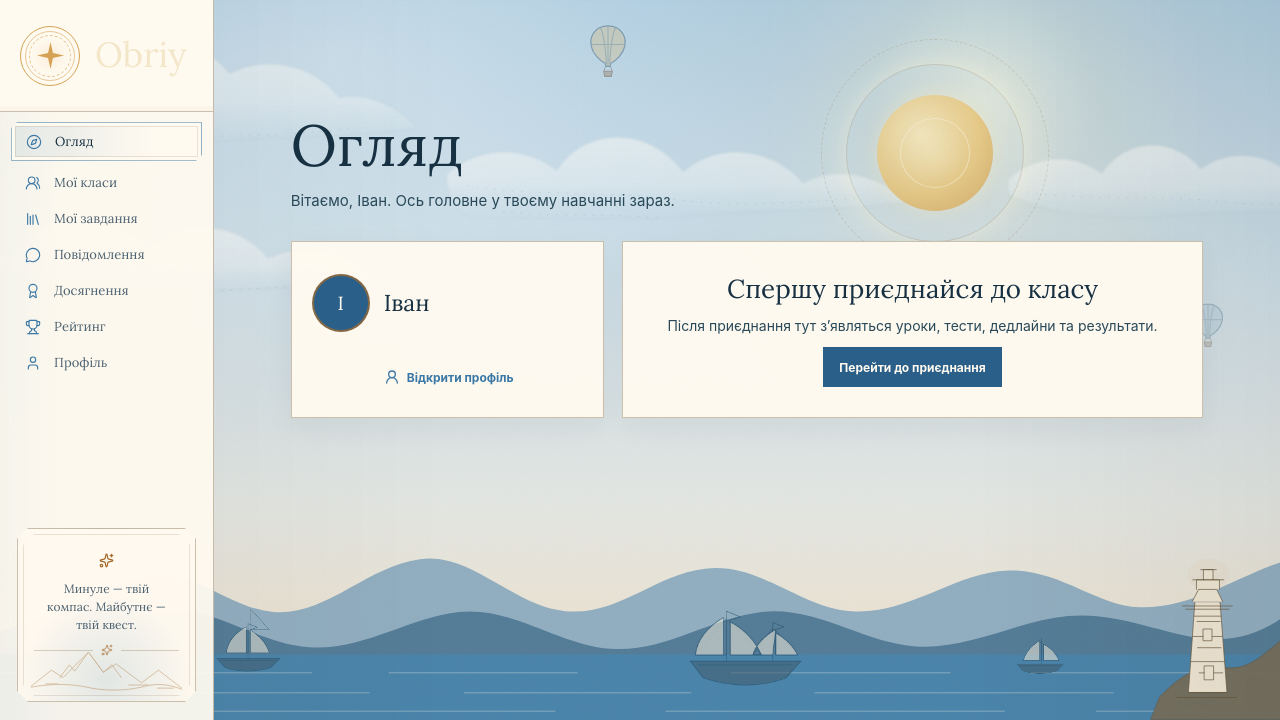
Test case: AppRouter auth boundaries › renders the student menu and opens its workspace routes
This screenshot has width=1280, height=720.
Expected: the heading "Огляд" is shown, top-left (291, 108), bottom-right (462, 182)
Expected: the heading "Спершу приєднайся до класу" is shown, top-left (727, 272), bottom-right (1098, 305)
Click the link "Мої завдання" at {"x": 81, "y": 218}, box top-left (25, 210), bottom-right (138, 227)
(page scrolled)
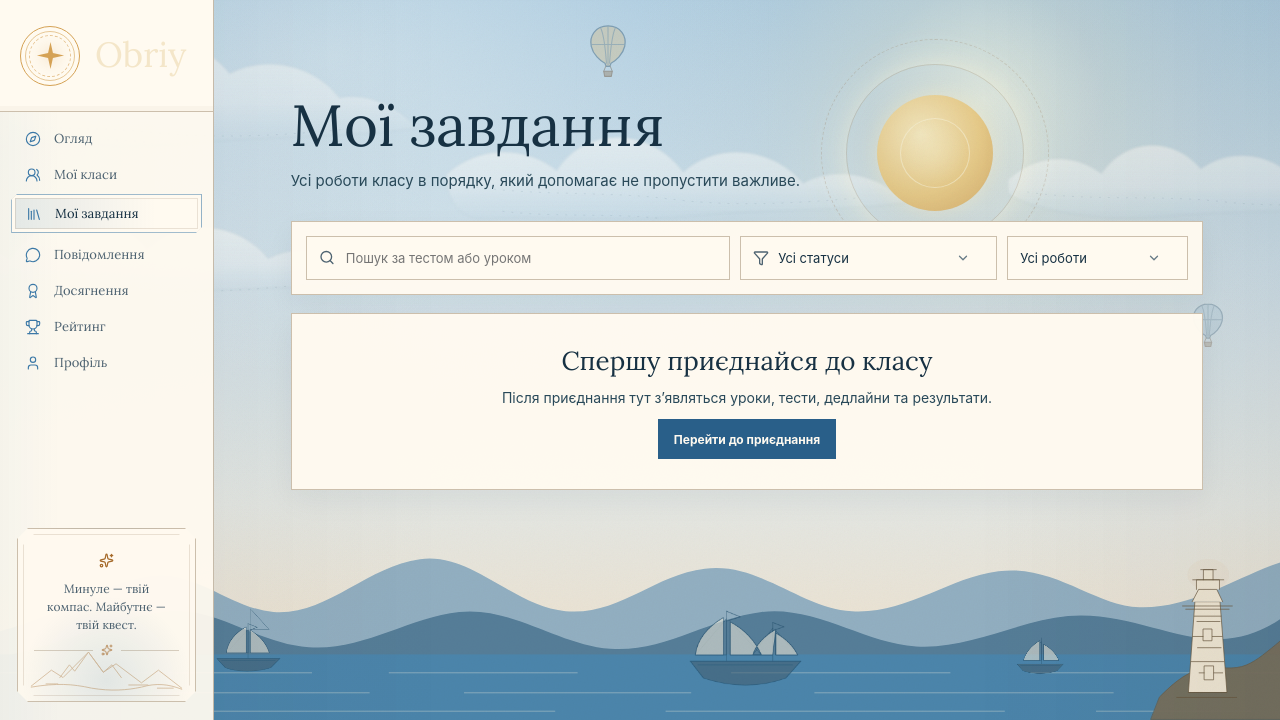
Expected: the text with test id "current-location" reads "/app/student/tasks", top-left (0, 700), bottom-right (143, 719)
Expected: the heading "Мої завдання" is shown, top-left (291, 88), bottom-right (664, 162)
